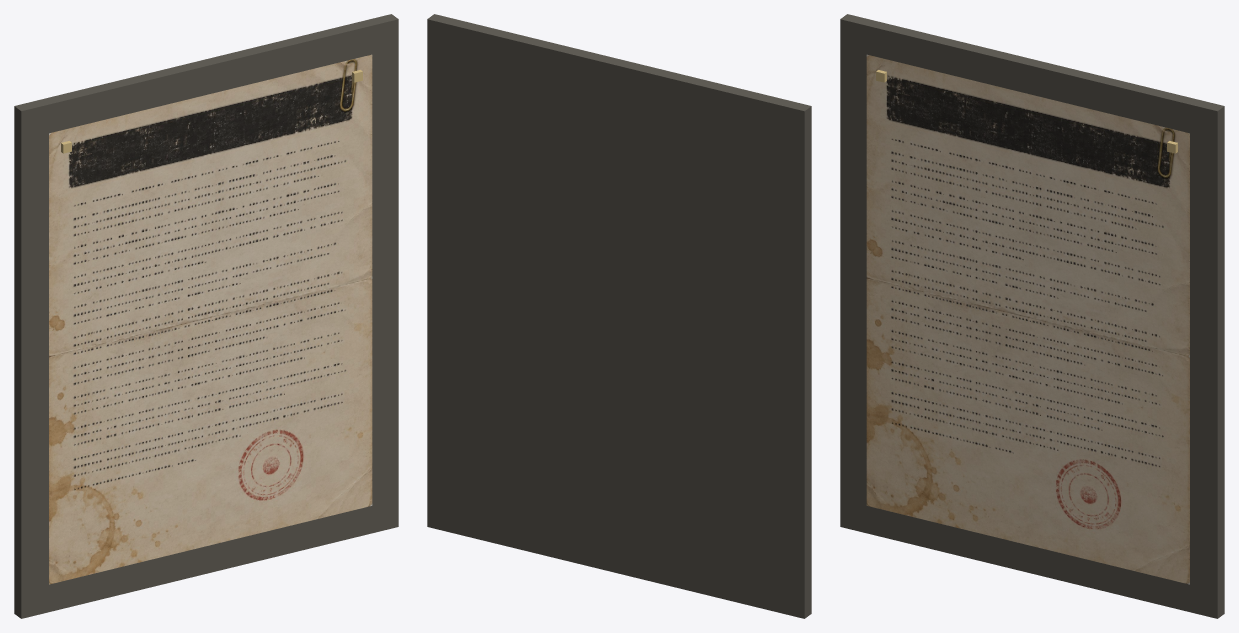
File: notice.glb
3 renders of one model, left to right at view 1: azimuth 30°, elevation 25°; view 2: azimuth 150°, elevation 25°; view 3: azimuth 330°, elevation 25°, orthographic.
Parts seen in each view (by area): view 1: canvas, board; view 2: board; view 3: canvas, board.
Part boxes in pixels (left/top/right/bottom): canvas: left=49, top=54, right=372, bottom=584; board: left=14, top=14, right=398, bottom=618; board: left=427, top=14, right=811, bottom=618; canvas: left=866, top=54, right=1189, bottom=584; board: left=840, top=14, right=1224, bottom=618.
Bounding box in the file's own units: 0.7 × 0.9 × 0.033.
Materials: 3 (1 with a texture image).
